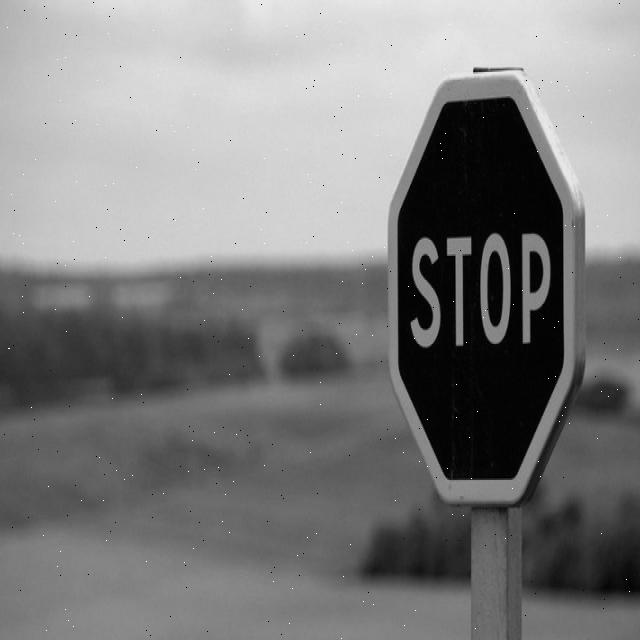Stop-sign: (372, 45, 602, 556)
